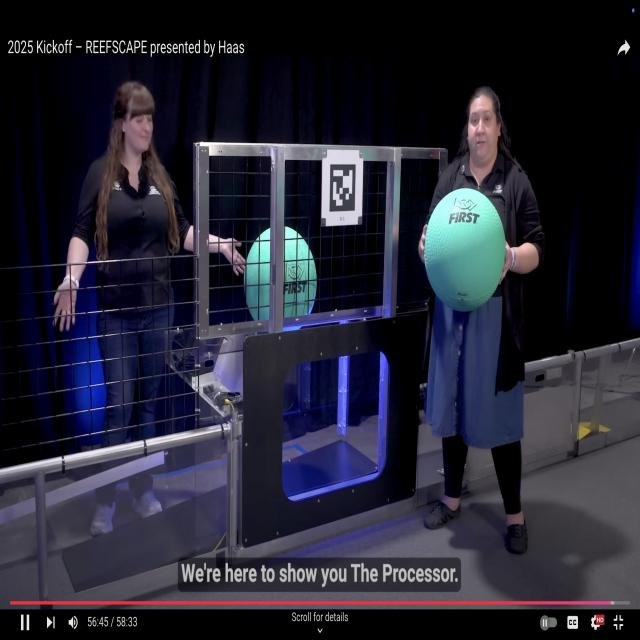algae: (424, 184, 506, 315), (243, 223, 318, 330)
